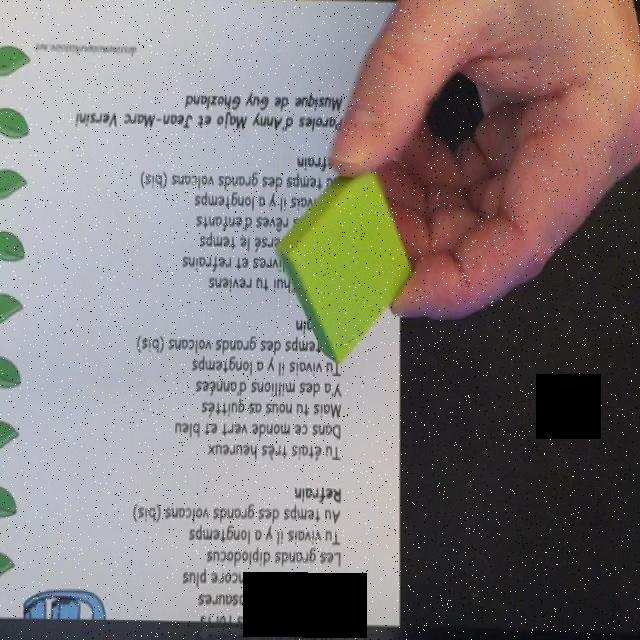square: (275, 164, 416, 364)
